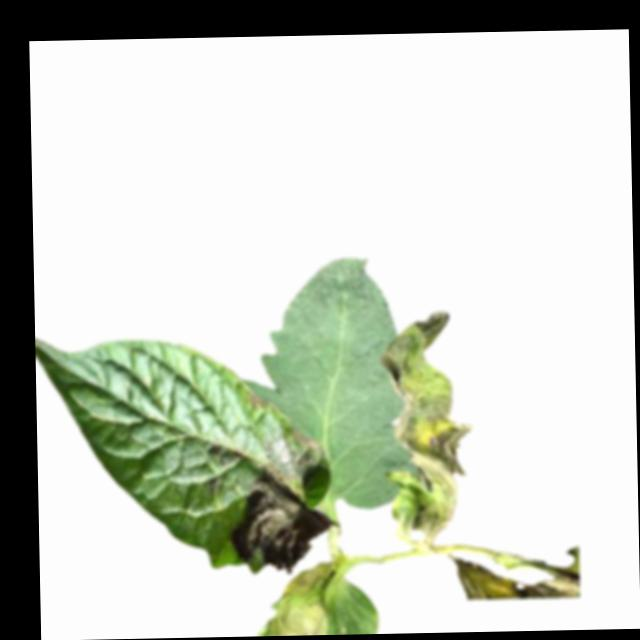Late_blight: (380, 310, 477, 542), (227, 430, 336, 573), (455, 548, 581, 601), (251, 561, 339, 635), (247, 395, 271, 416)
healthy: (260, 257, 415, 511)
